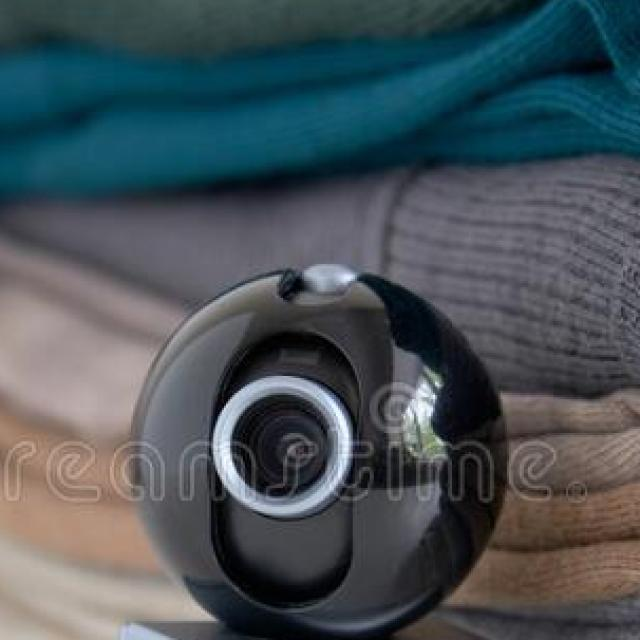hidden camera: (201, 362, 381, 534)
